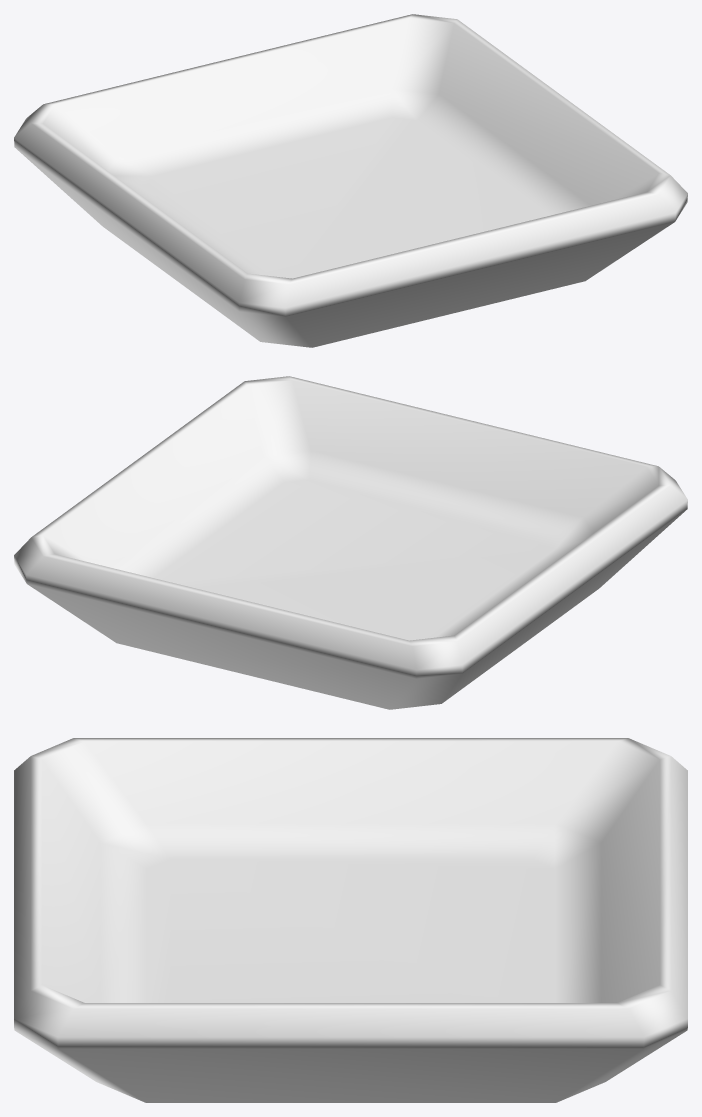
The model's file is prop_068.fbx.
The picture shows the model from 3 angles, top to bottom: view 1: azimuth 30°, elevation 25°; view 2: azimuth 150°, elevation 25°; view 3: azimuth 270°, elevation 25°; orthographic projection. The views are drawn at different scales.
Visible parts, largest first — view 1: prop_068; view 2: prop_068; view 3: prop_068.
Boxes of the visible parts, bbox=[...] form: prop_068: bbox=[14, 14, 687, 347]; prop_068: bbox=[14, 376, 687, 709]; prop_068: bbox=[14, 738, 687, 1102].
Bounding box in the file's own units: 21.55 × 21.55 × 4.34.
